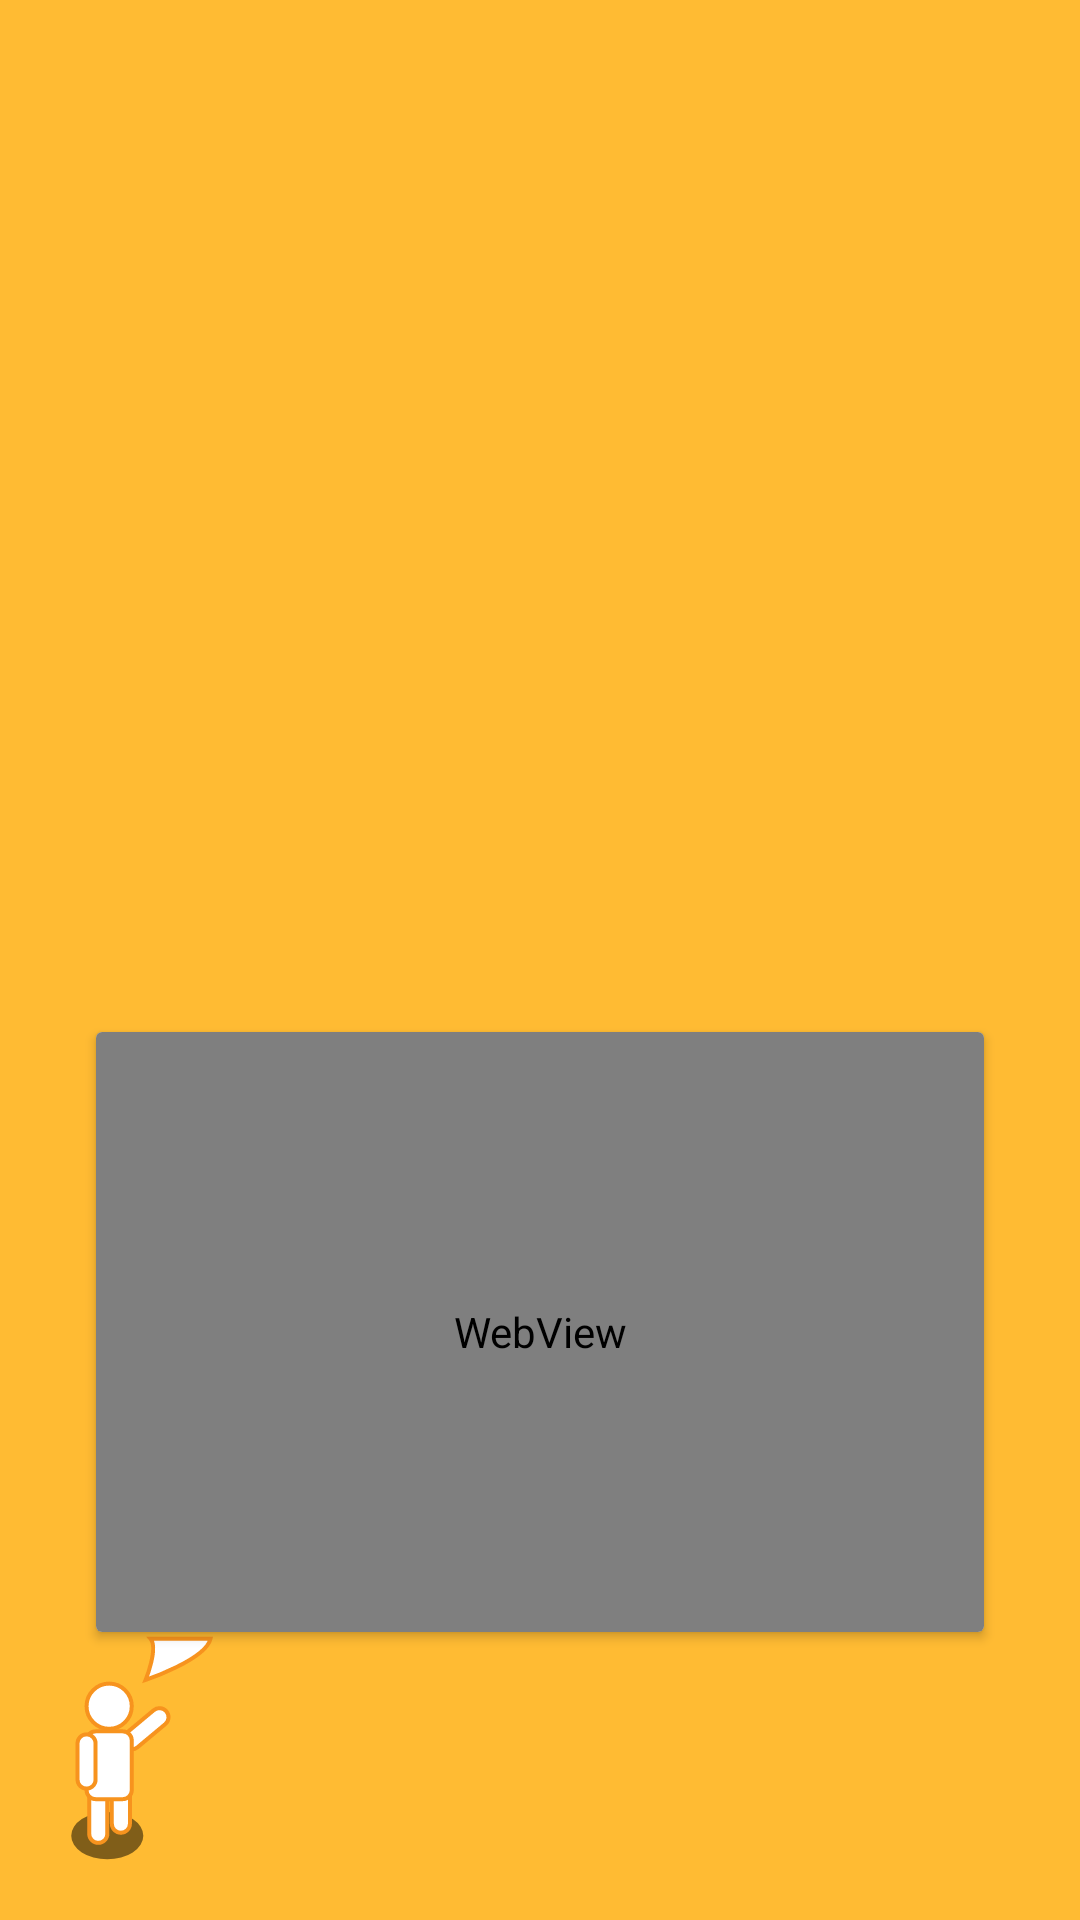

Named icons in this screenshot (1080px x 1920px) and their centers, (x,y):
people say: (120,1771)
